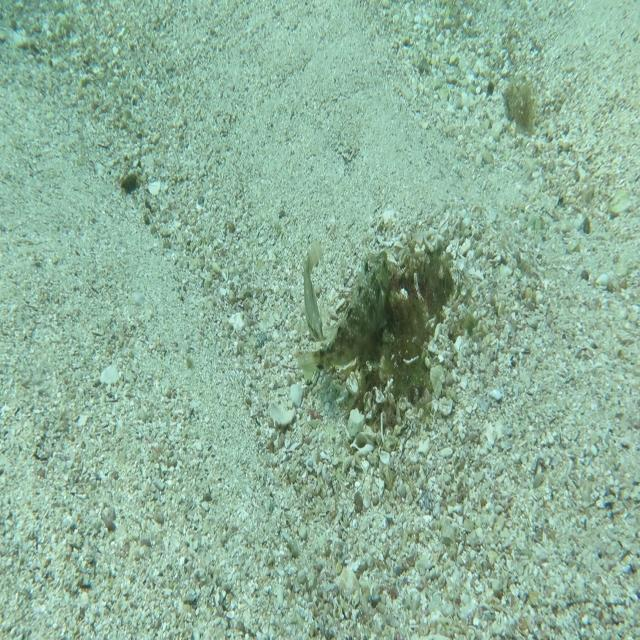BEND: (297, 246, 390, 384)
core_nest: (395, 256, 445, 298)
female: (300, 239, 325, 343)
nest: (321, 227, 454, 439)
